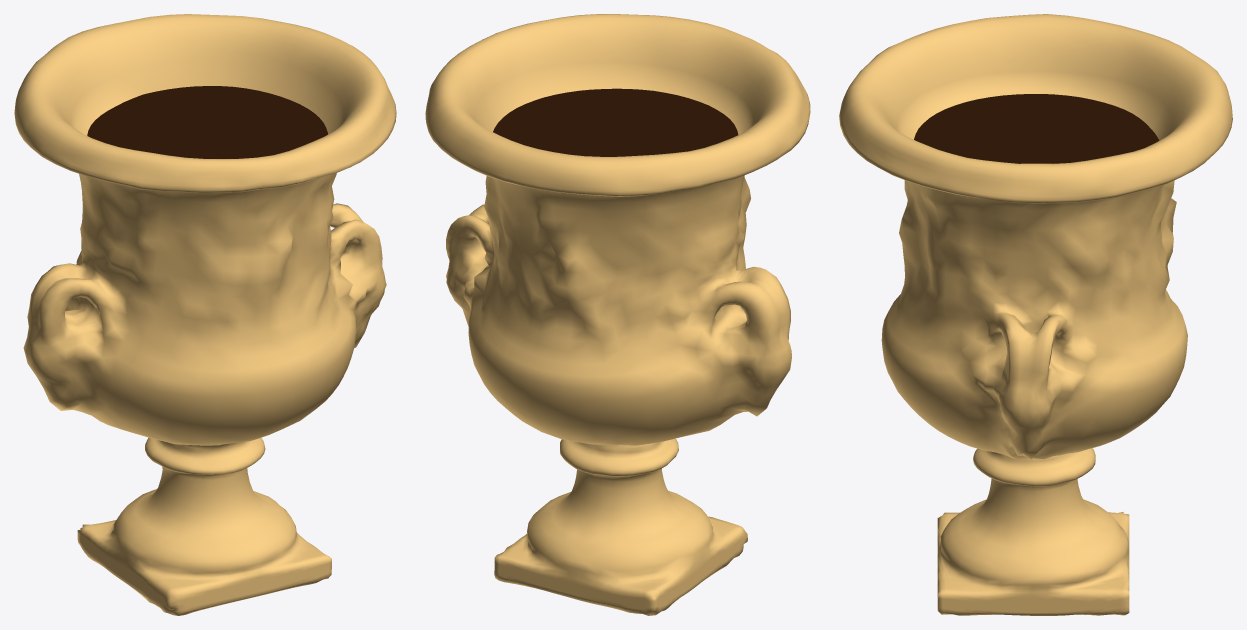
The model's file is Vase.fbx.
3 views of the same model, side by side, from view 1: azimuth 30°, elevation 25°; view 2: azimuth 150°, elevation 25°; view 3: azimuth 270°, elevation 25° (orthographic).
Parts seen in each view (by area): view 1: ZBrush_defualt_group; view 2: ZBrush_defualt_group; view 3: ZBrush_defualt_group.
Part boxes in pixels (<box>): ZBrush_defualt_group: <box>14,14,396,615</box>; ZBrush_defualt_group: <box>425,14,810,615</box>; ZBrush_defualt_group: <box>839,14,1232,615</box>.
Size of the model in its own units: 49.05 by 64.88 by 47.6.
